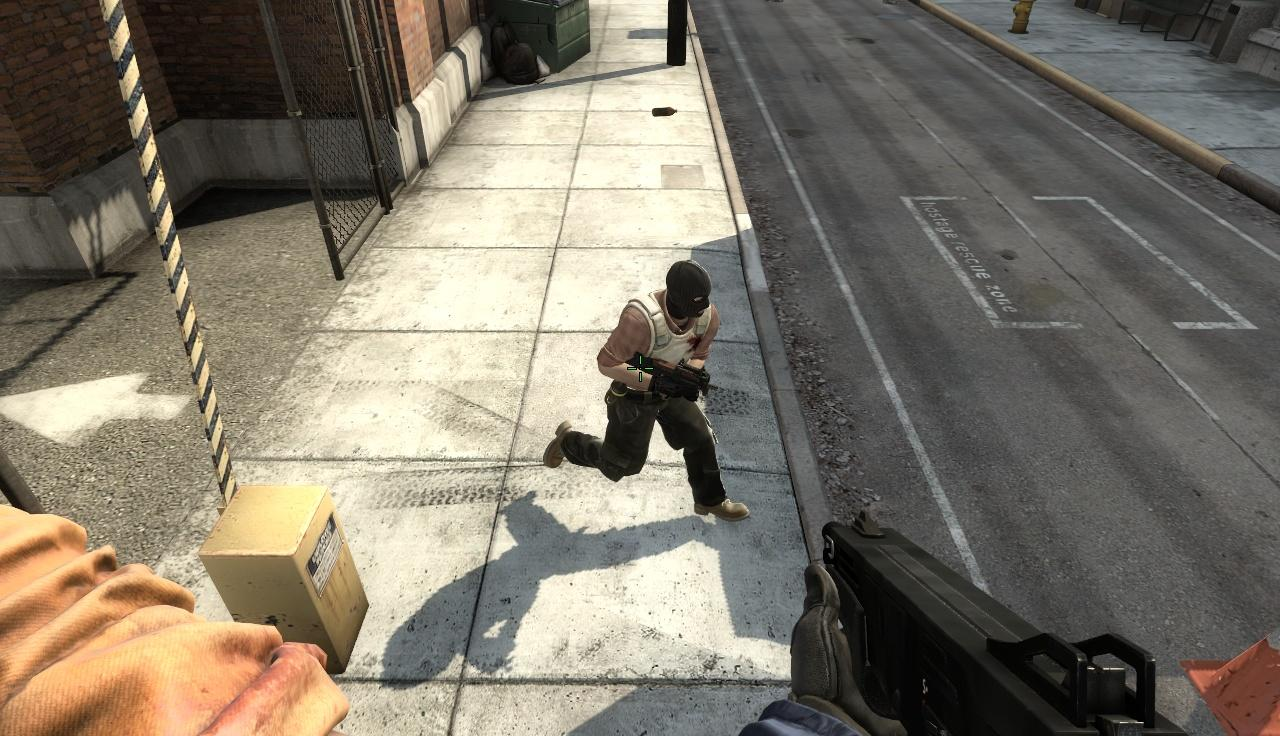shotgun: (801, 513, 1178, 736)
tt: (599, 259, 716, 515)
tthead: (666, 261, 712, 321)
